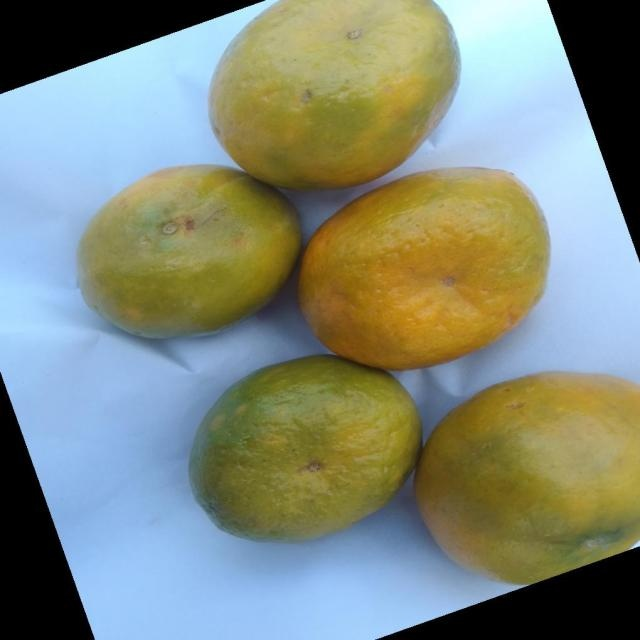agrume: (297, 165, 551, 370), (413, 369, 639, 586), (207, 0, 461, 191), (187, 353, 422, 543), (75, 162, 301, 340)
